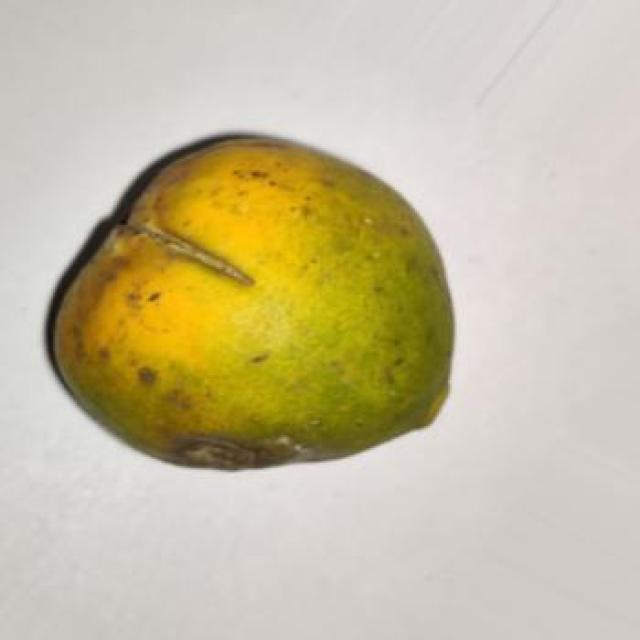good: (48, 137, 452, 468)
